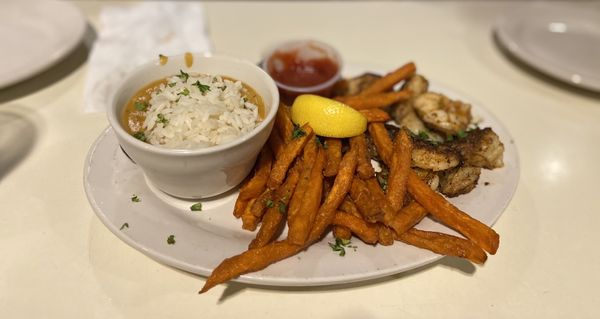sushi: (106, 53, 281, 201), (262, 37, 344, 105)
